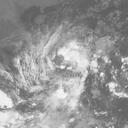cyclone: (58, 41, 90, 73)
